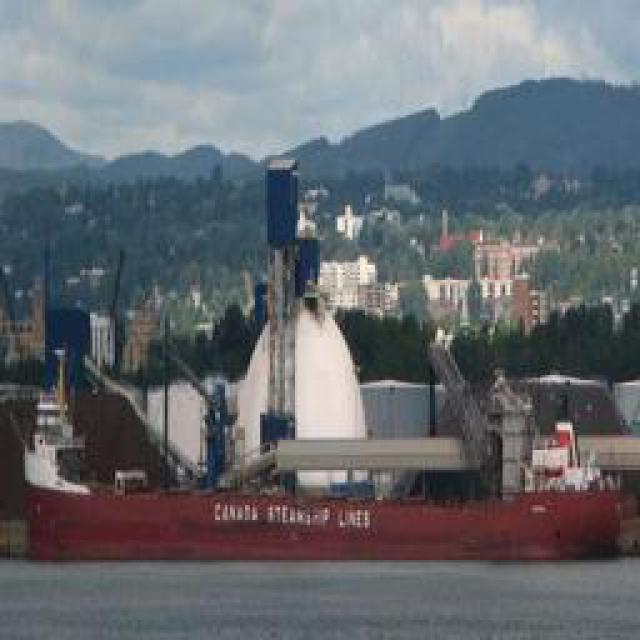Ship: (1, 135, 640, 573)
